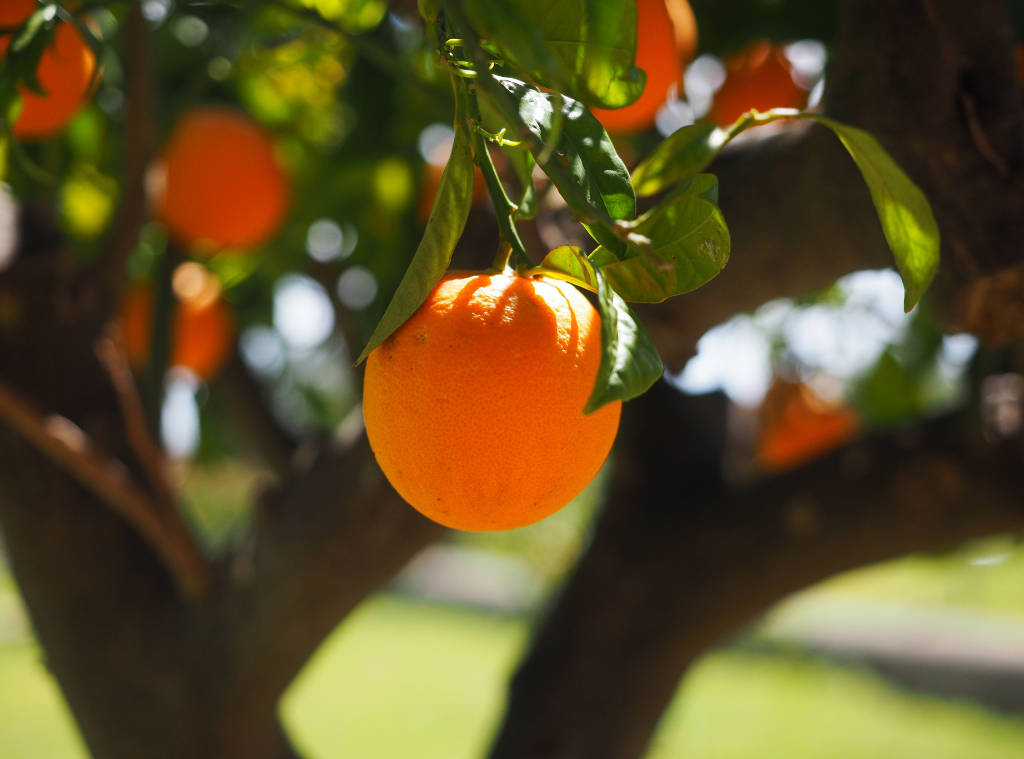laranja: (360, 265, 560, 465), (120, 20, 240, 140), (708, 98, 808, 198), (280, 75, 360, 155)
